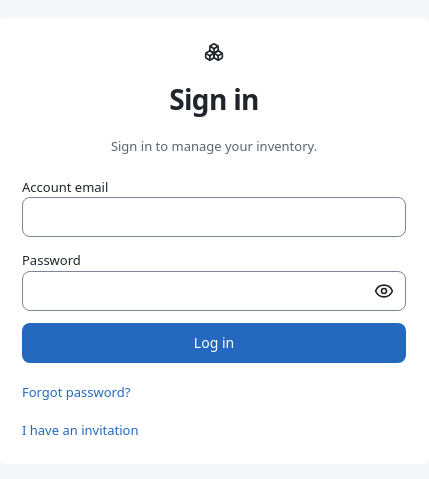
treats a missing saved session normally but reports invalid login credentials
The width and height of the screenshot is (429, 479).
Check: the button "Log in" is enabled, box [22,323,406,363]
Type "user@example.test" into the field labelled "Account email" at (214,217), box [22,197,406,237]
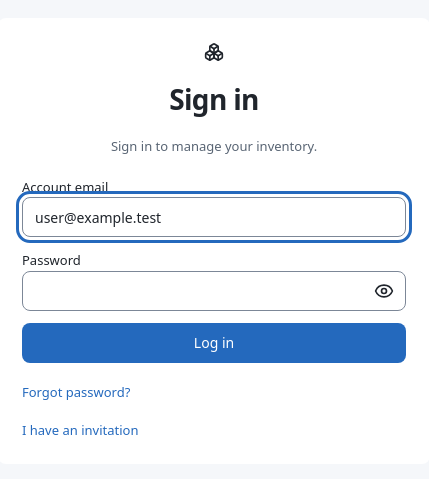
Type "wrong password" into the password field labelled "Password" at (214,291), box [22,271,406,311]
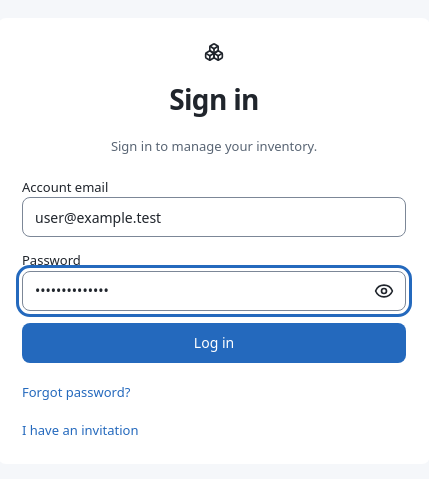
Click the button "Log in" at (214,343), box [22,323,406,363]
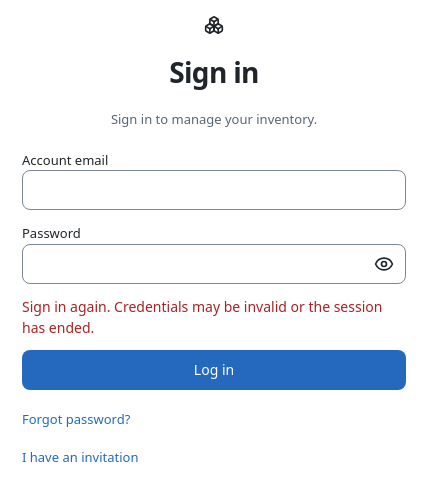
Check: the message shows "Credentials may be invalid", box [22,297,382,337]
